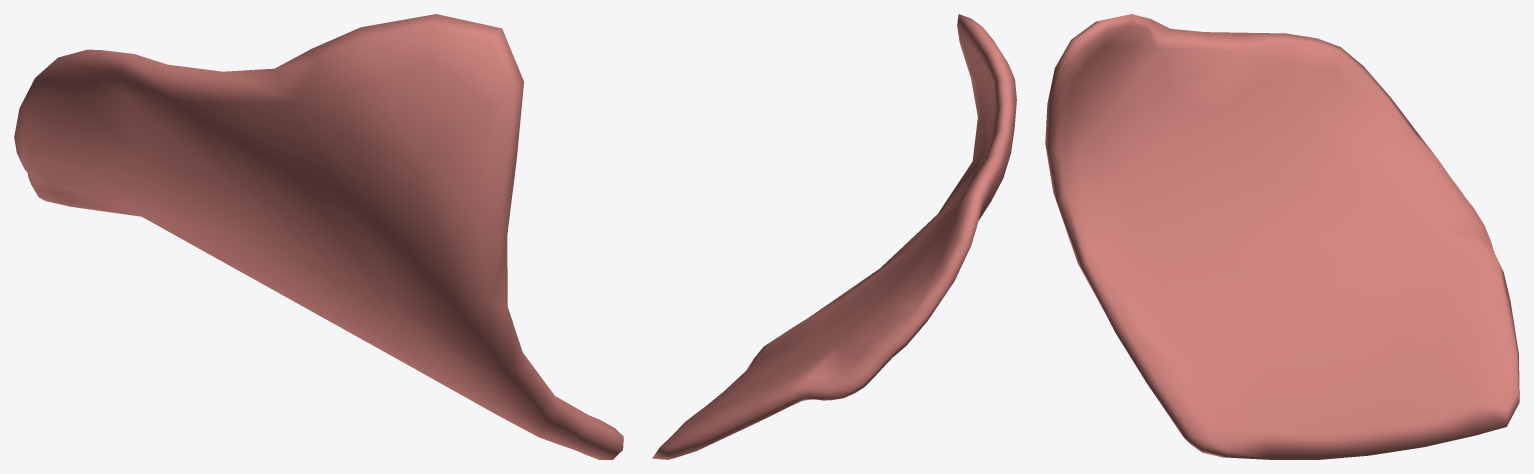
The picture shows the model from 3 angles, left to right: view 1: azimuth 30°, elevation 25°; view 2: azimuth 150°, elevation 25°; view 3: azimuth 270°, elevation 25°; orthographic projection. The views are drawn at different scales.
Parts seen in each view (by area): view 1: ZA_9551e3f62ce678e2; view 2: ZA_9551e3f62ce678e2; view 3: ZA_9551e3f62ce678e2.
Part boxes in pixels (x1,y1,x2,y2): ZA_9551e3f62ce678e2: [14, 14, 623, 459]; ZA_9551e3f62ce678e2: [652, 14, 1016, 459]; ZA_9551e3f62ce678e2: [1045, 14, 1519, 459].
Bounding box in the file's own units: 0.00666 × 0.00786 × 0.00939.
